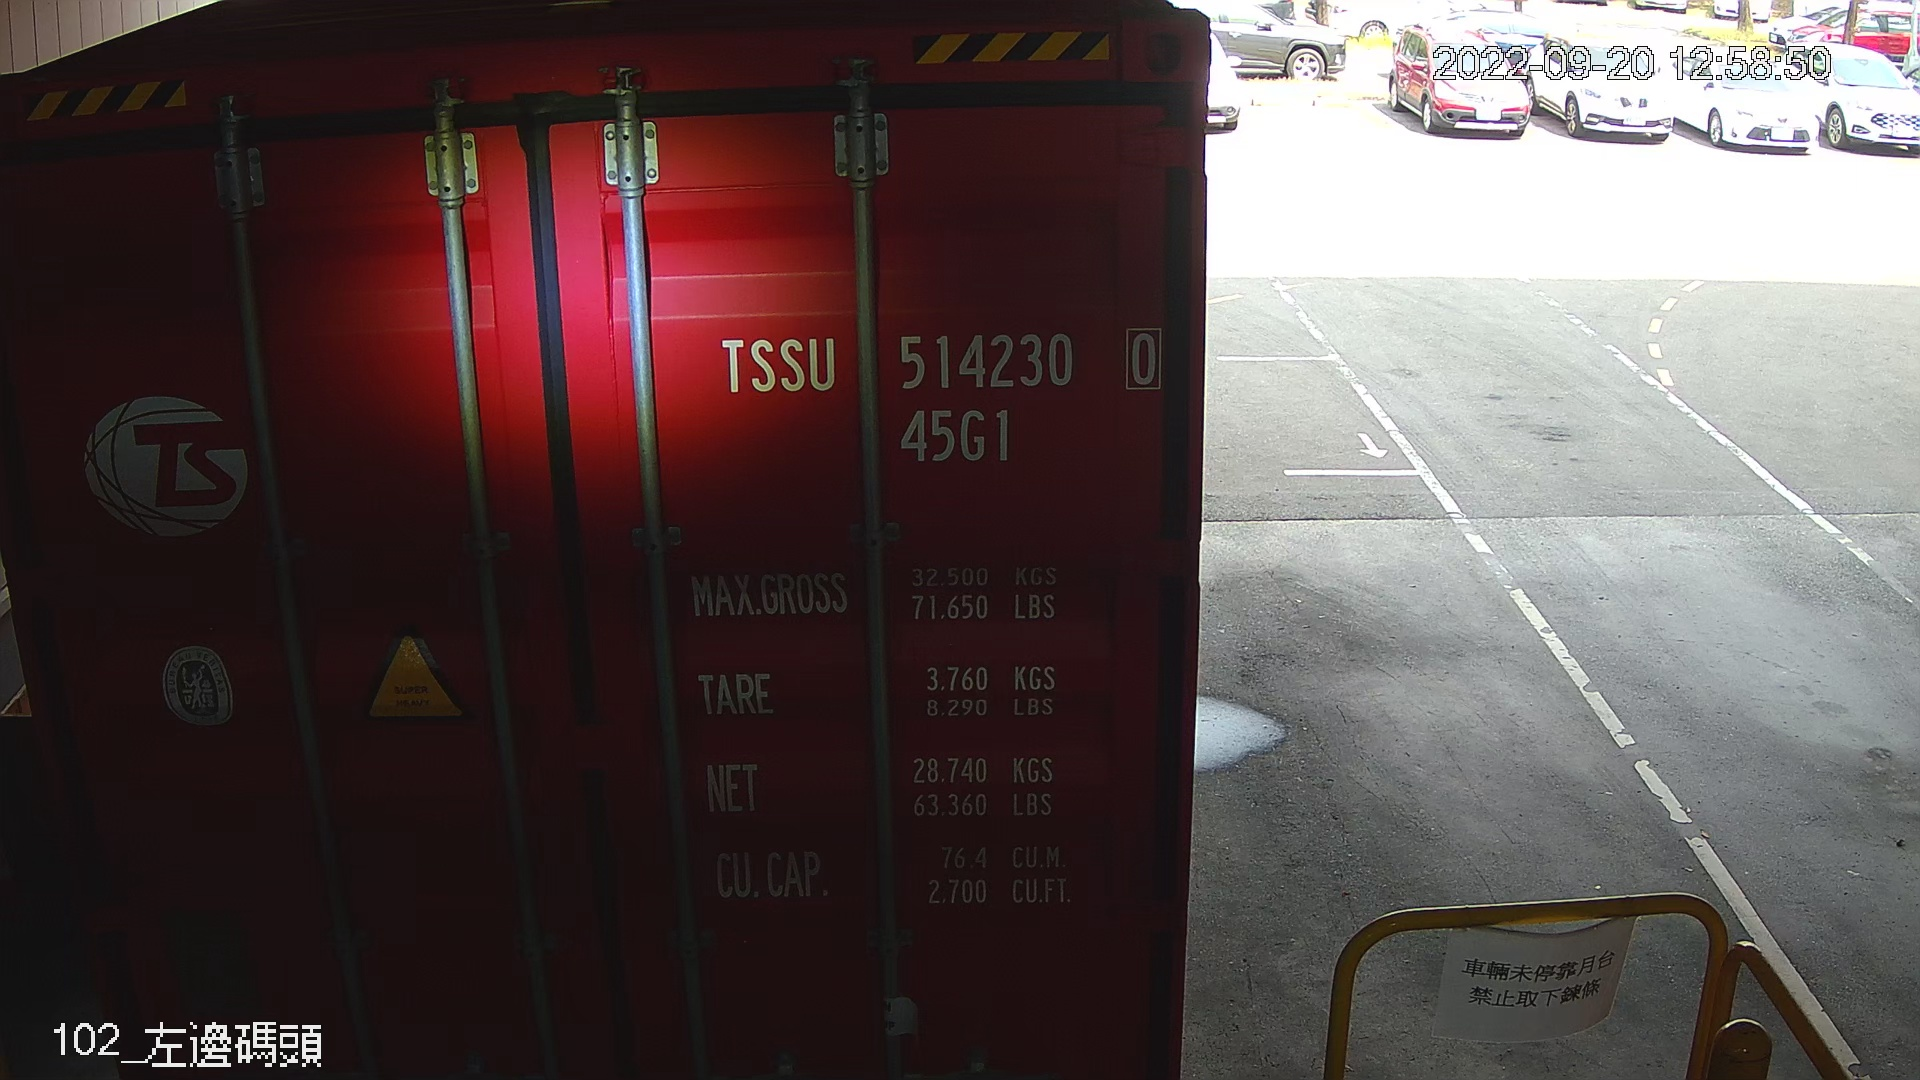container: (864, 22, 1054, 113)
